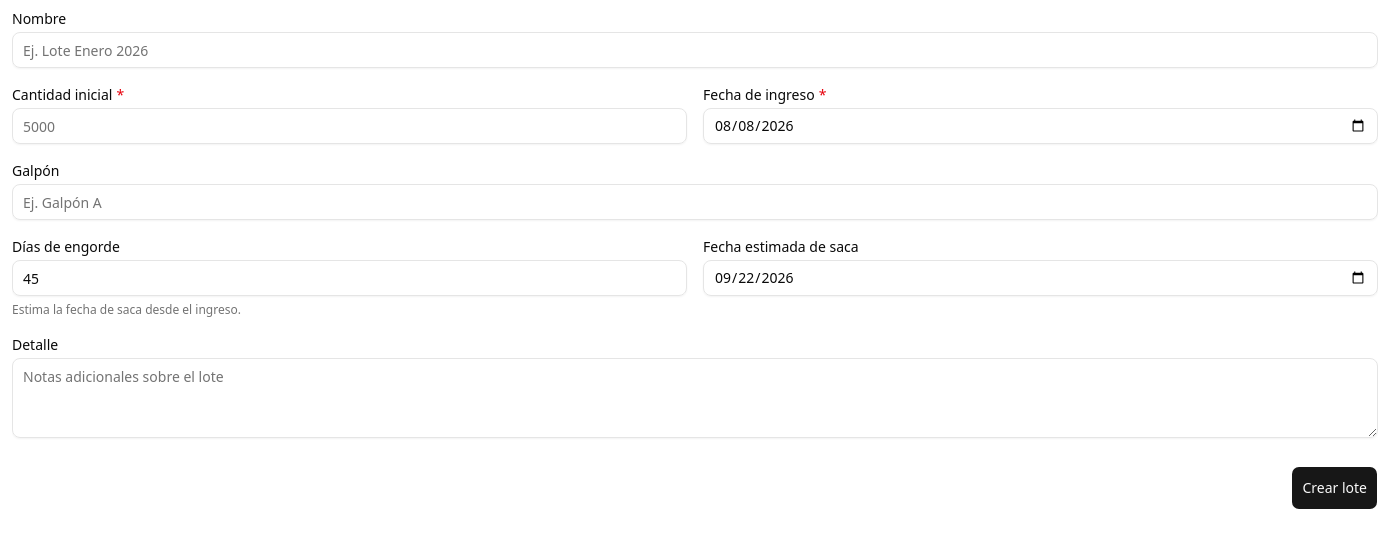
Test: LoteForm — modo crear › muestra error si se envía sin cantidadInicial
Click the button "Crear lote" at (1335, 488), box [1291,466,1378,510]
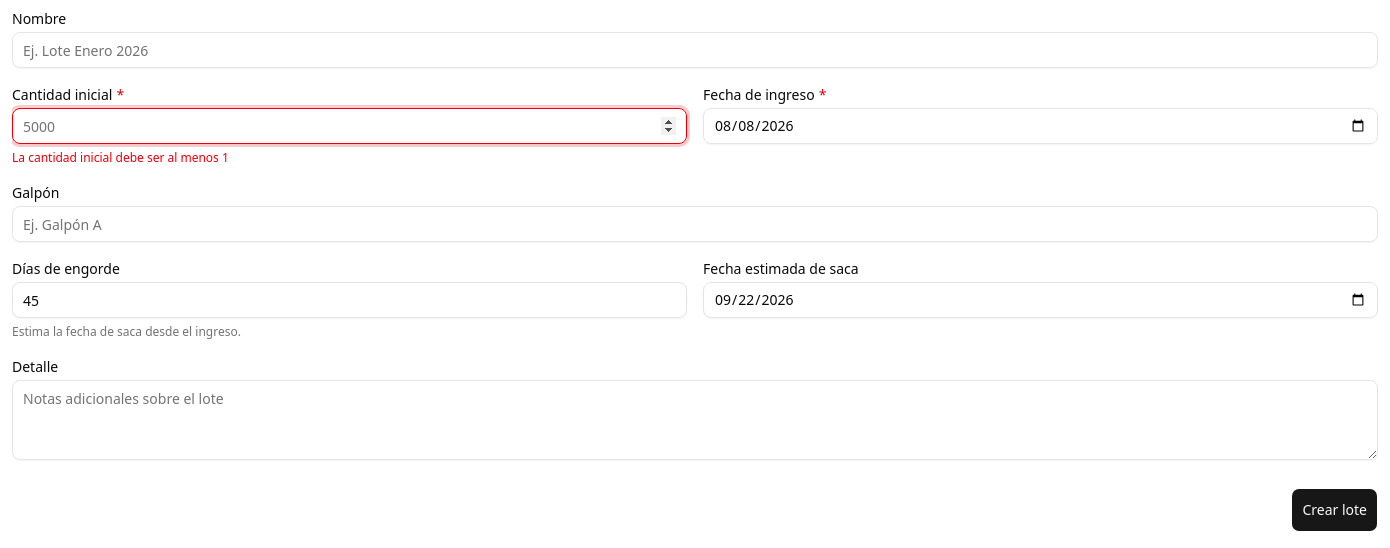
Expected: the text "La cantidad inicial debe ser al menos 1" is shown, [12,149,229,166]
